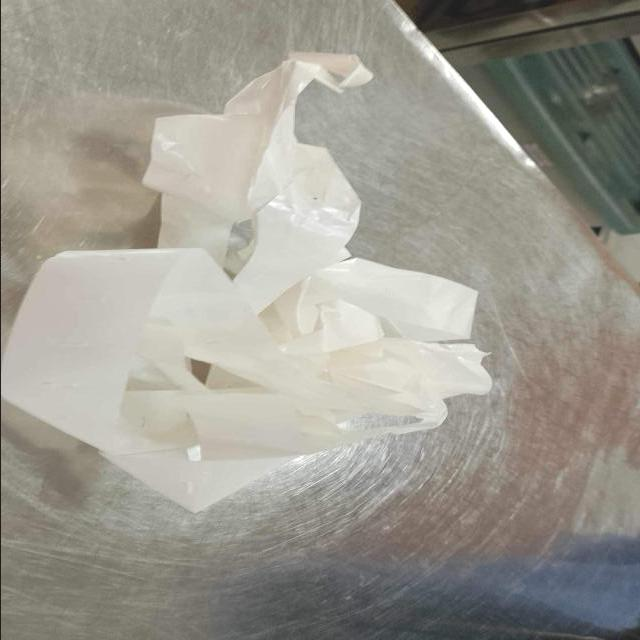General: (3, 50, 494, 516)
